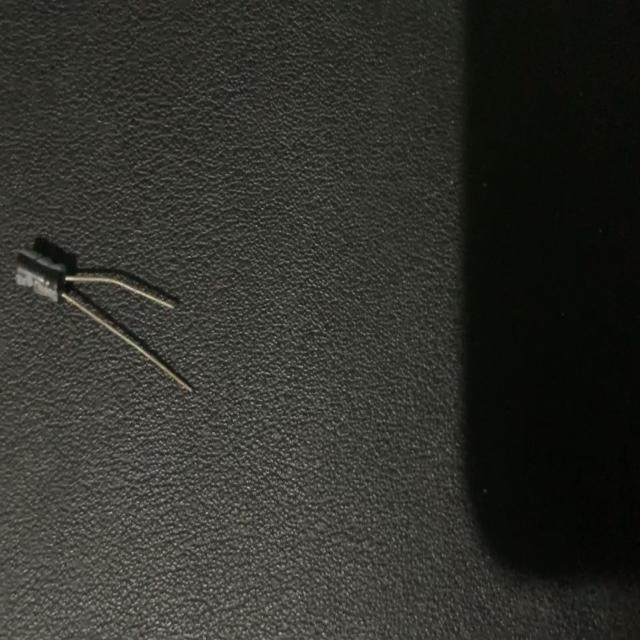capacitor: (12, 236, 200, 407)
